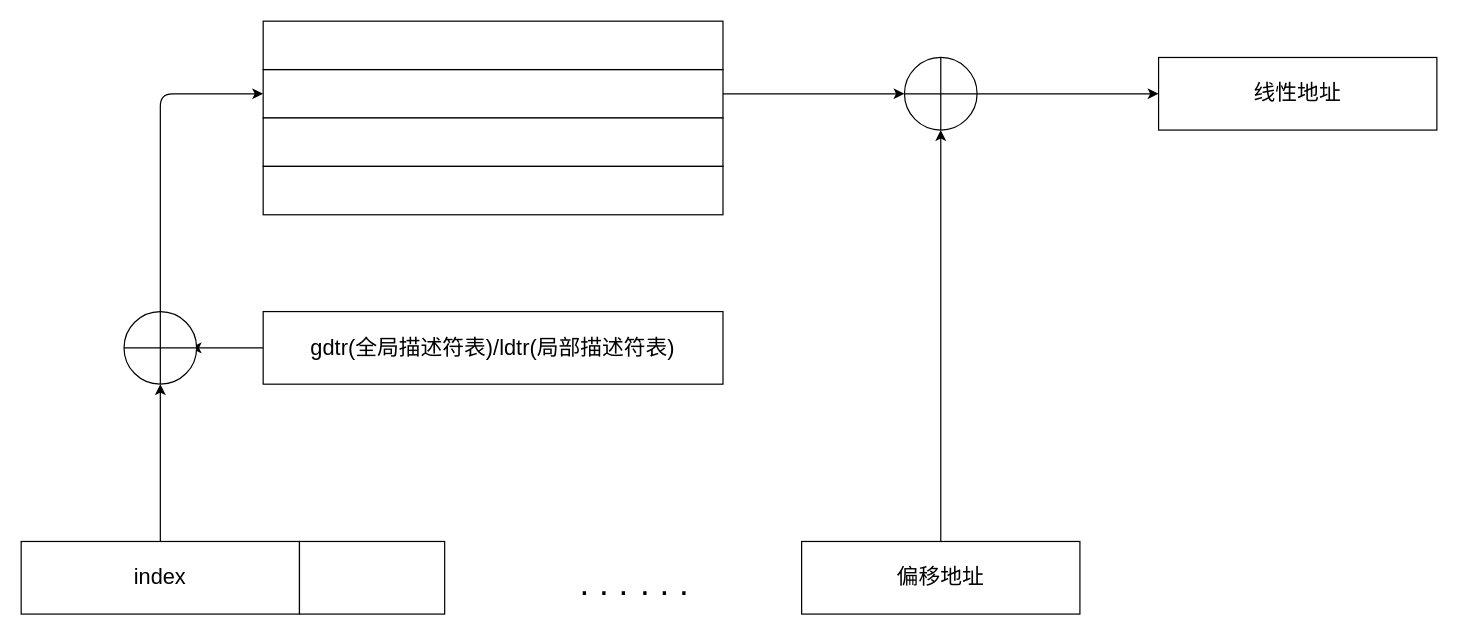
The diagram is 1458 pixels wide and 635 high, and some of its shapes have lost their labels. Each missing label, with the centre of its shape:
T1: the point at 371,577
段描述符: the point at 492,93
